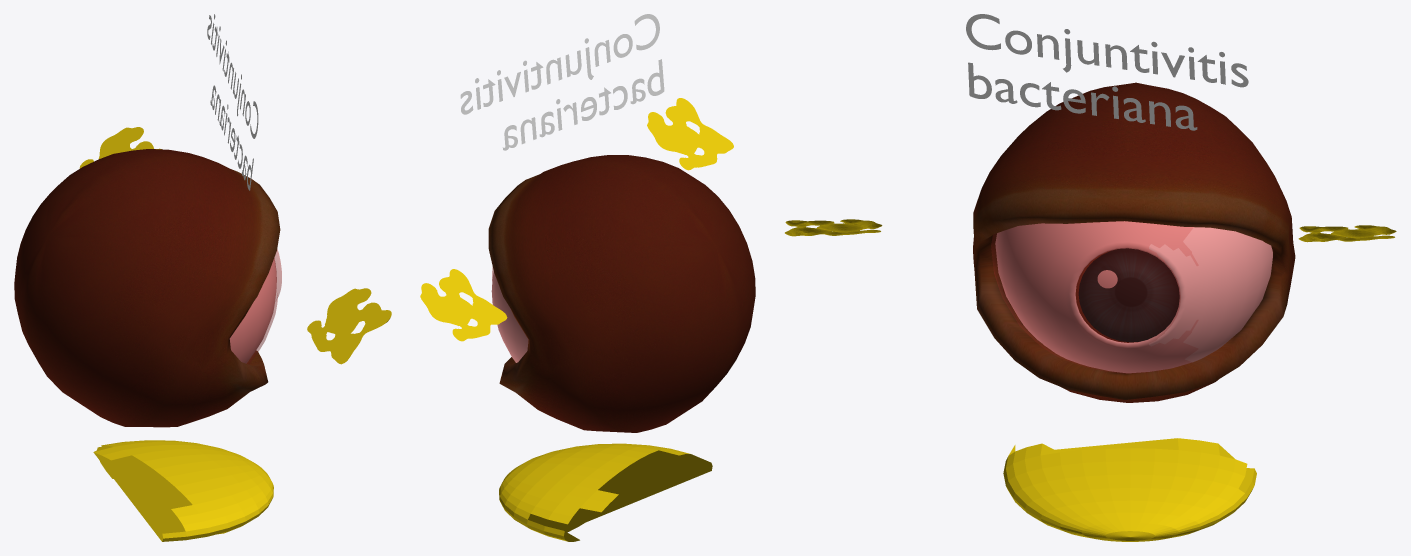
The model's file is ModeloOjo1.fbx.
The picture shows the model from 3 angles, left to right: view 1: azimuth 30°, elevation 25°; view 2: azimuth 150°, elevation 25°; view 3: azimuth 270°, elevation 25°; orthographic projection. The views are drawn at different scales.
Parts seen in each view (by area): view 1: Ojo_Conjuntivitis_Part3, Mucosa_3, Mucosa1.Object1, Ojo_Conjuntivitis_Part1, Ojo_Conjuntivitis_Part4, Conjuntivitis_Texto, Mucosa2.Object2; view 2: Ojo_Conjuntivitis_Part3, Mucosa_3, Conjuntivitis_Texto, Mucosa2.Object2, Mucosa1.Object1, Ojo_Conjuntivitis_Part4; view 3: Ojo_Conjuntivitis_Part3, Ojo_Conjuntivitis_Part4, Ojo_Conjuntivitis_Part1, Mucosa_3, Ojo_Conjuntivitis_Part2, Conjuntivitis_Texto, Mucosa2.Object2, Mucosa1.Object1.
Part boxes in pixels (x1,y1,x2,y2): Ojo_Conjuntivitis_Part3: (14, 149, 280, 427); Mucosa_3: (93, 440, 273, 541); Mucosa1.Object1: (307, 288, 391, 364); Ojo_Conjuntivitis_Part1: (230, 249, 281, 364); Ojo_Conjuntivitis_Part4: (229, 258, 276, 363); Conjuntivitis_Texto: (207, 14, 258, 190); Mucosa2.Object2: (79, 127, 161, 168); Ojo_Conjuntivitis_Part3: (488, 155, 755, 432); Mucosa_3: (499, 443, 712, 541); Conjuntivitis_Texto: (460, 14, 664, 150); Mucosa2.Object2: (420, 269, 507, 341); Mucosa1.Object1: (647, 98, 733, 170); Ojo_Conjuntivitis_Part4: (491, 271, 528, 362); Ojo_Conjuntivitis_Part3: (973, 82, 1295, 402); Ojo_Conjuntivitis_Part4: (995, 221, 1272, 373); Ojo_Conjuntivitis_Part1: (991, 221, 1198, 373); Mucosa_3: (1003, 438, 1256, 541); Ojo_Conjuntivitis_Part2: (1078, 248, 1179, 342); Conjuntivitis_Texto: (966, 14, 1248, 130); Mucosa2.Object2: (1298, 225, 1396, 242); Mucosa1.Object1: (785, 219, 882, 236).
Size of the model in its own units: 218 by 397 by 434.
